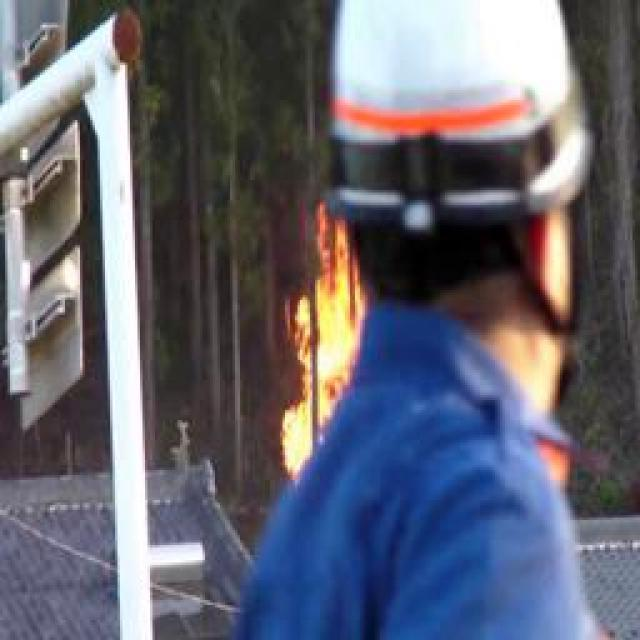Fire: (277, 230, 354, 474)
